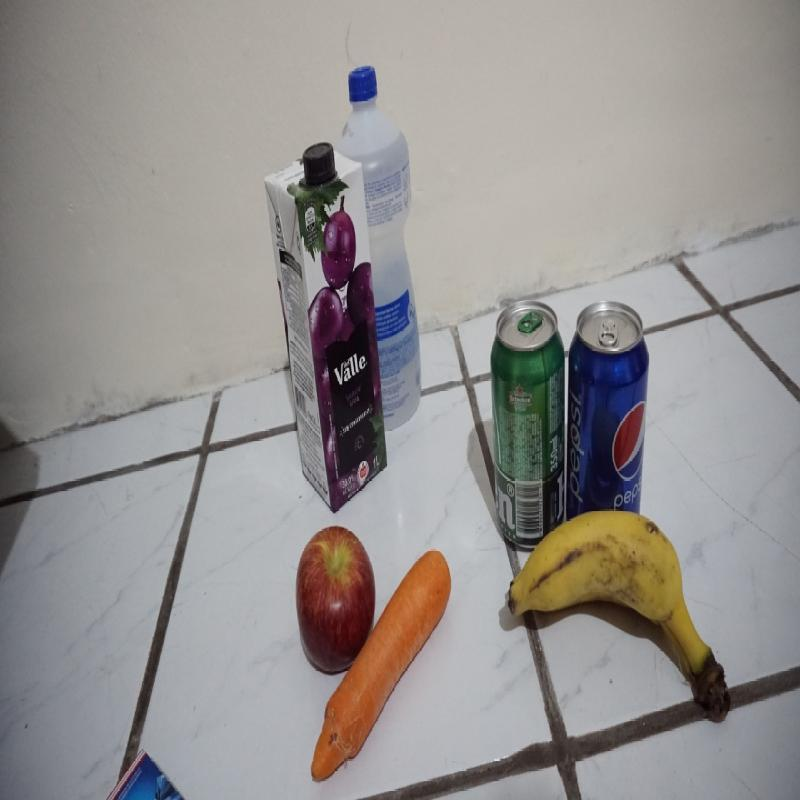Alcohol Bottle: (337, 58, 426, 431)
Apple: (295, 526, 378, 672)
Banana: (503, 508, 733, 726)
Beer can: (490, 300, 570, 554)
Carrot: (310, 547, 450, 782)
Gelatine: (96, 748, 187, 799)
Soda can: (570, 300, 650, 551)
